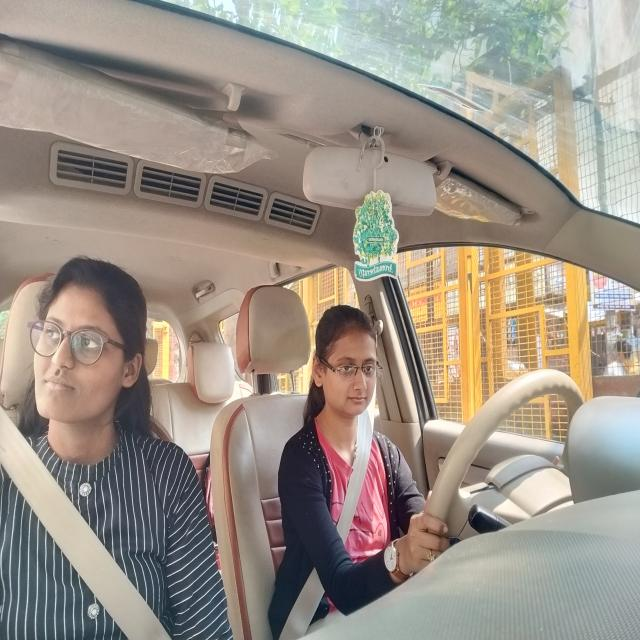person: (21, 252, 145, 425), (312, 306, 382, 418)
